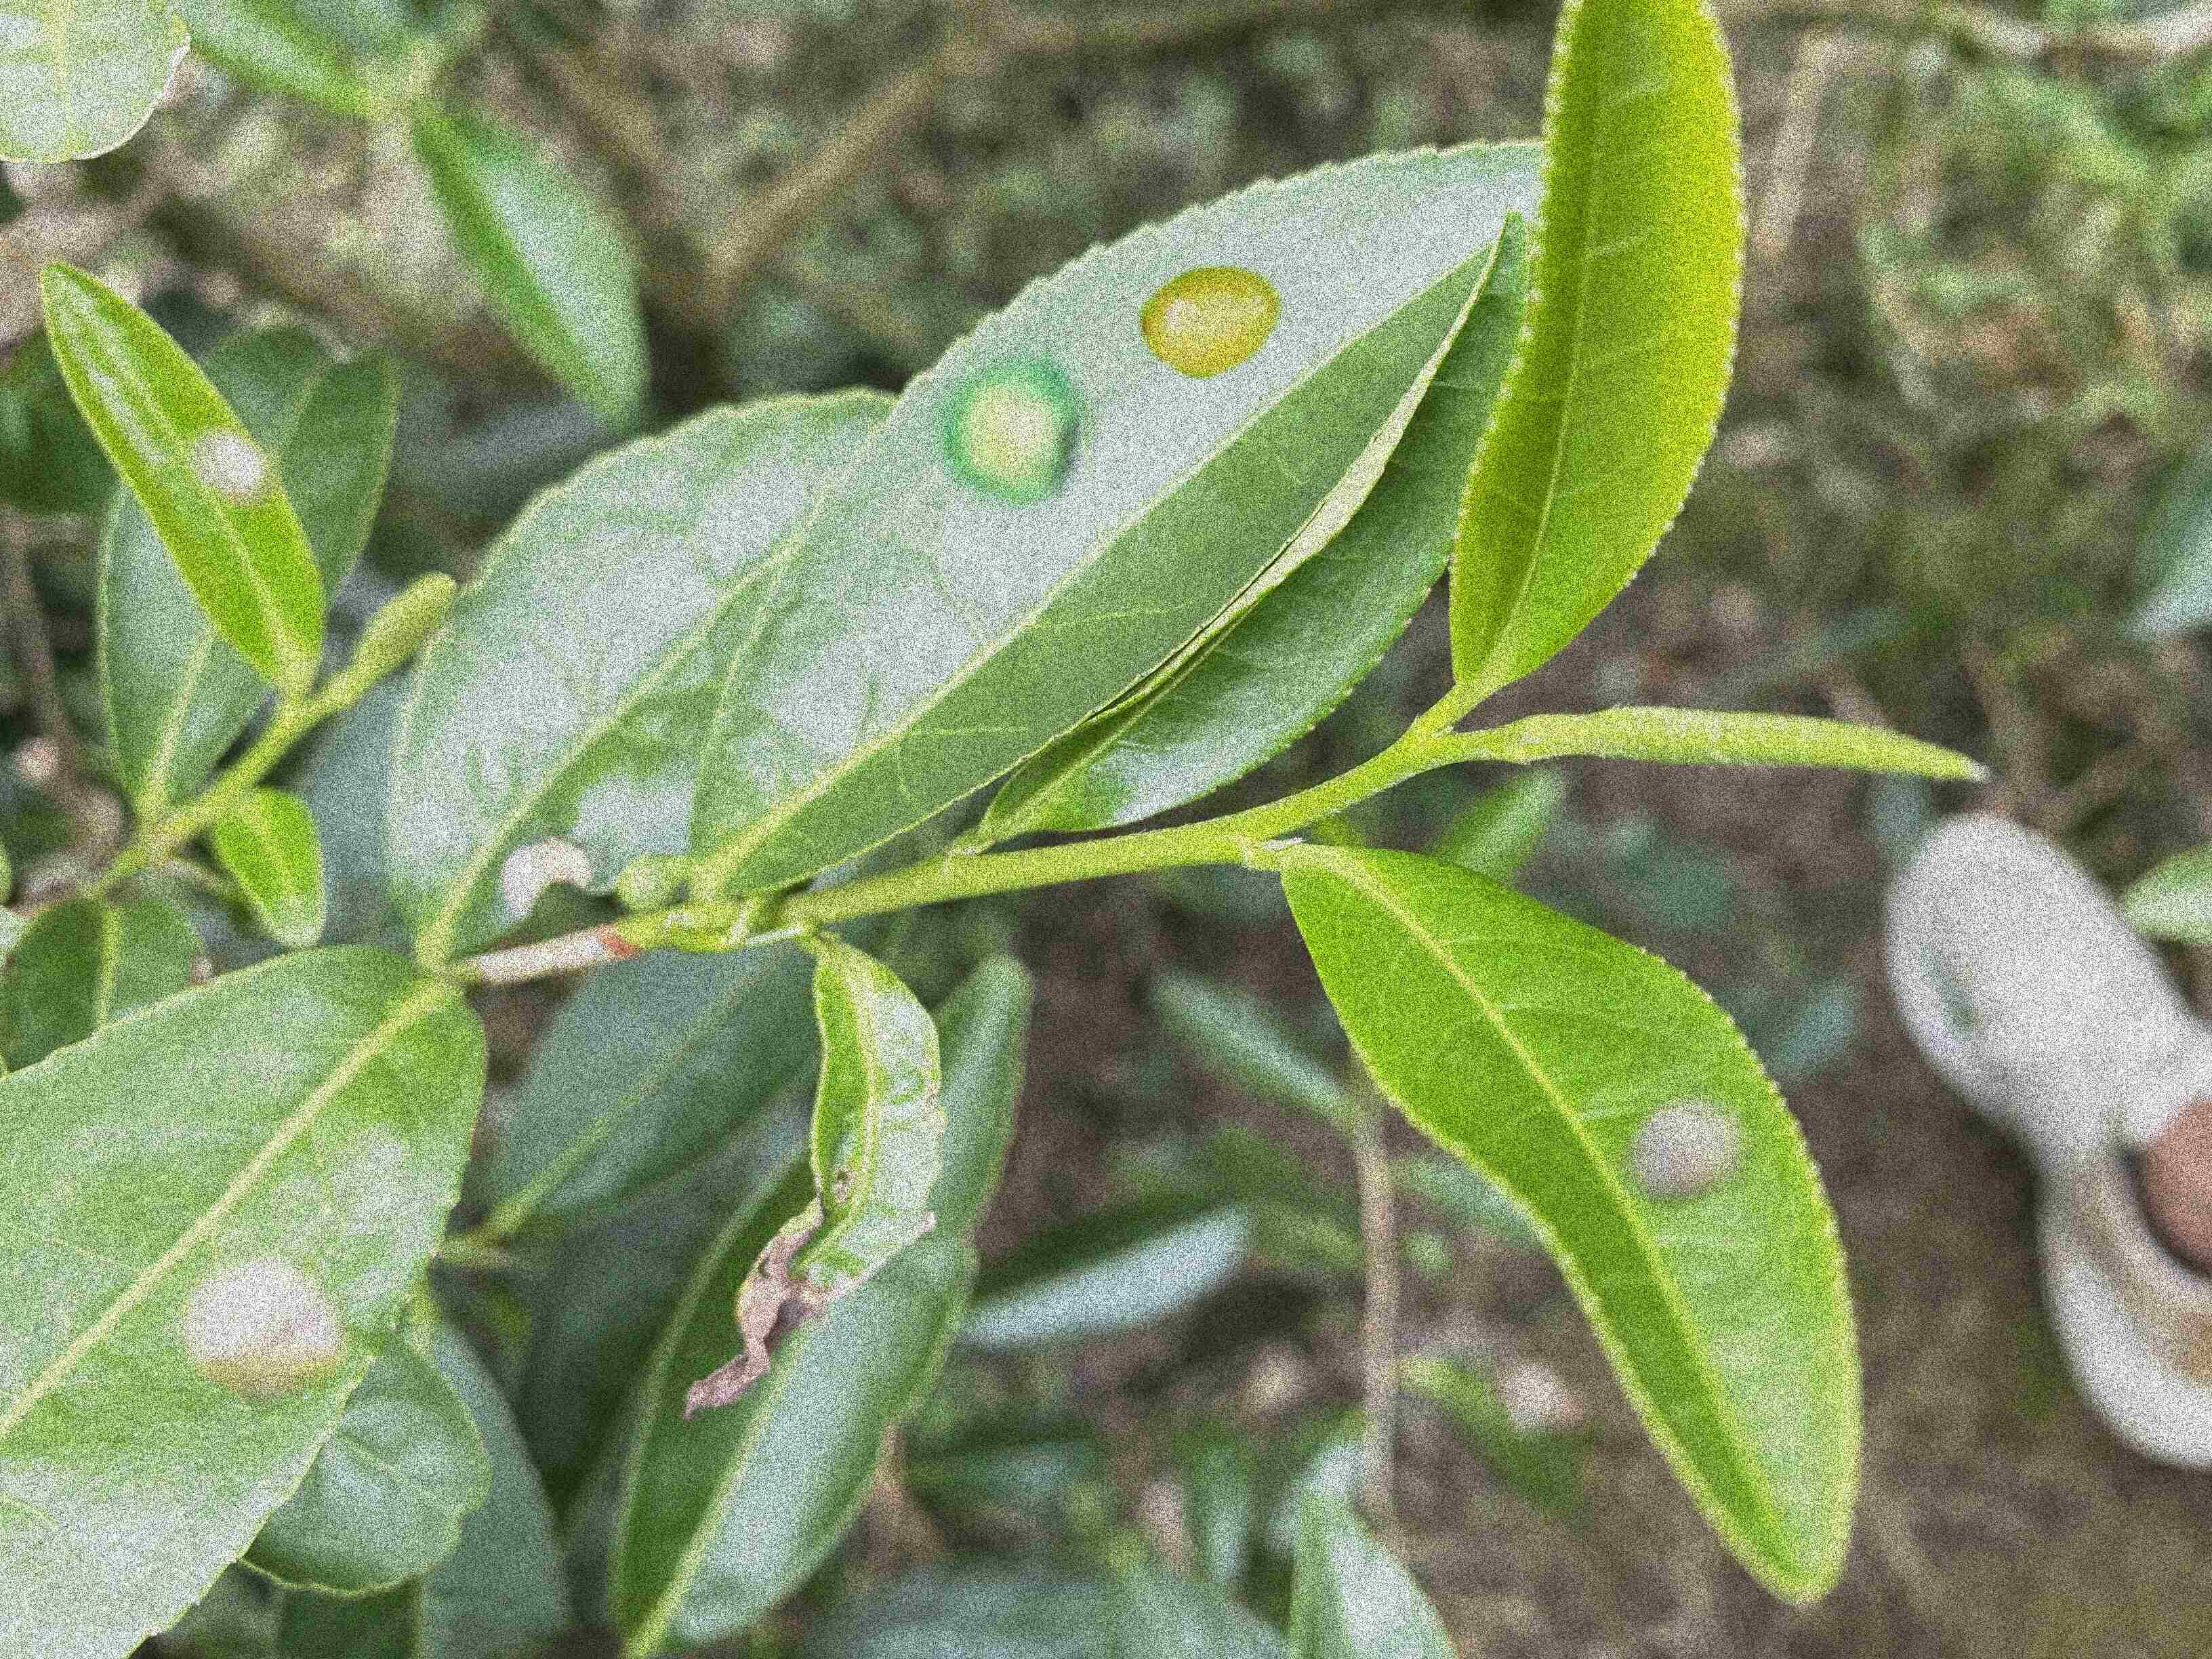chabing_high: (690, 134, 1534, 897)
chabing_low: (1277, 843, 1867, 1612), (2, 939, 495, 1654), (37, 254, 327, 701)
healthy: (1449, 3, 1750, 690)
tanju_high: (679, 936, 944, 1420)
